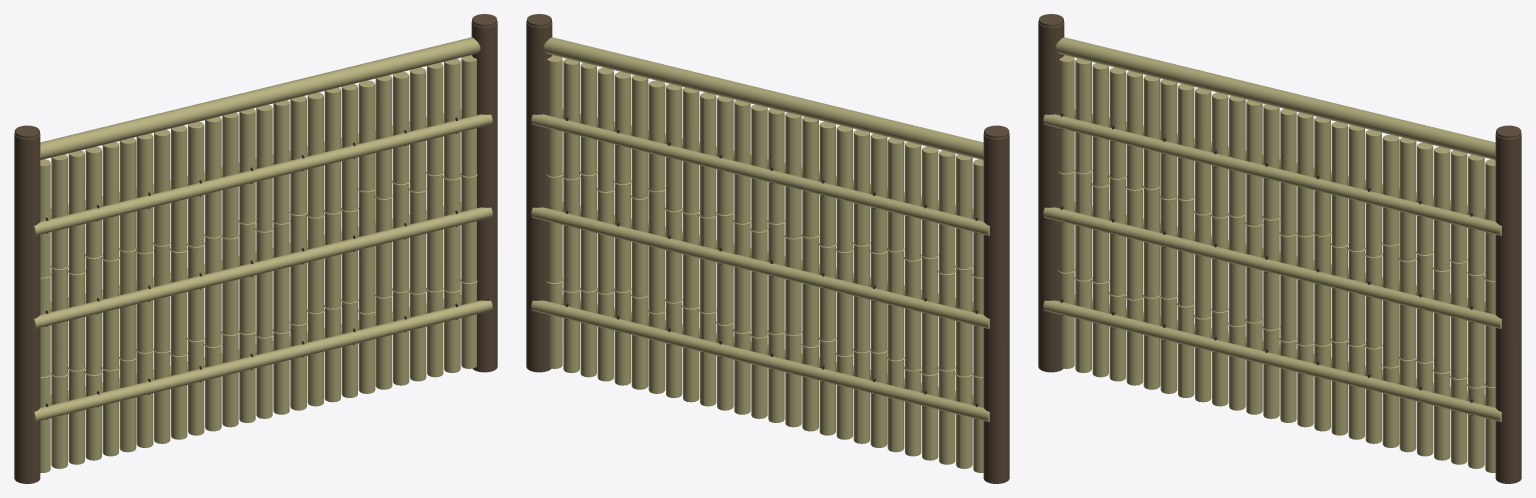
Rendered from city-bamboo-fence-section.glb.
3 renders of one model, left to right at view 1: azimuth 30°, elevation 25°; view 2: azimuth 150°, elevation 25°; view 3: azimuth 330°, elevation 25°, orthographic.
Parts seen in each view (by area): view 1: Assembly | Weathered green-gold bamboo, Assembly | Charred cedar post; view 2: Assembly | Weathered green-gold bamboo, Assembly | Charred cedar post; view 3: Assembly | Weathered green-gold bamboo, Assembly | Charred cedar post.
Part boxes in pixels (box(x1,y1,x2,y2)): Assembly | Weathered green-gold bamboo: box(34, 37, 492, 472); Assembly | Charred cedar post: box(14, 14, 497, 483); Assembly | Weathered green-gold bamboo: box(531, 37, 989, 472); Assembly | Charred cedar post: box(526, 14, 1009, 483); Assembly | Weathered green-gold bamboo: box(1043, 37, 1501, 472); Assembly | Charred cedar post: box(1038, 14, 1521, 483).
Bounding box in the file's own units: 1.89 × 1.31 × 0.114.
